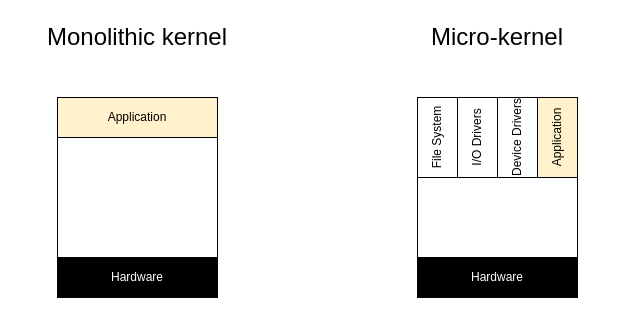
This 634x315 diagram has some shape labels left out. Here are the shapes that lost their labels. From the top down, the centre of each, then its label:
At (137,197): "Kernel".
At (497,217): "Minimal Kernel".
